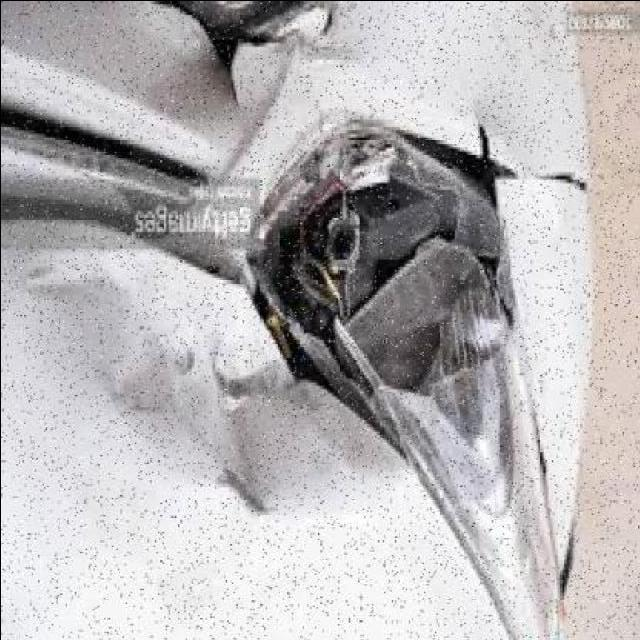Headlight-Damage: (272, 133, 610, 514)
bonnet-dent: (2, 237, 416, 640)
front-bumper-dent: (95, 4, 619, 214)
